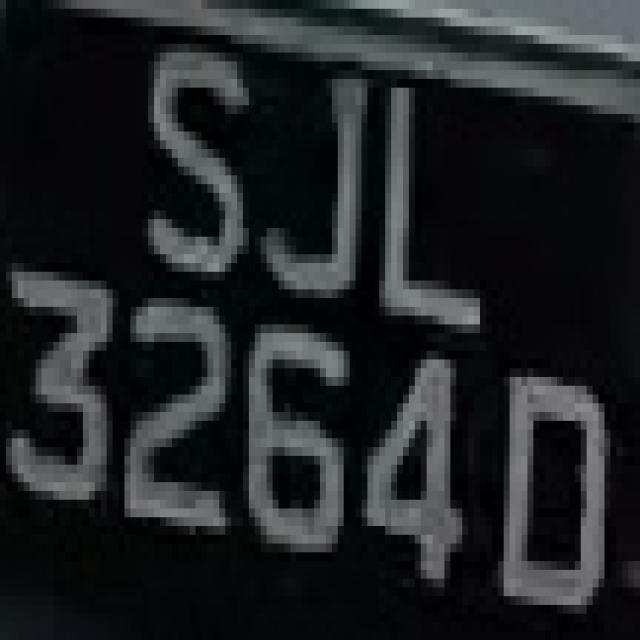2: (113, 254, 237, 544)
3: (12, 237, 112, 552)
4: (362, 307, 474, 596)
6: (243, 263, 350, 605)
D: (480, 333, 610, 640)
J: (267, 44, 367, 324)
L: (385, 53, 516, 360)
S: (130, 9, 267, 307)
